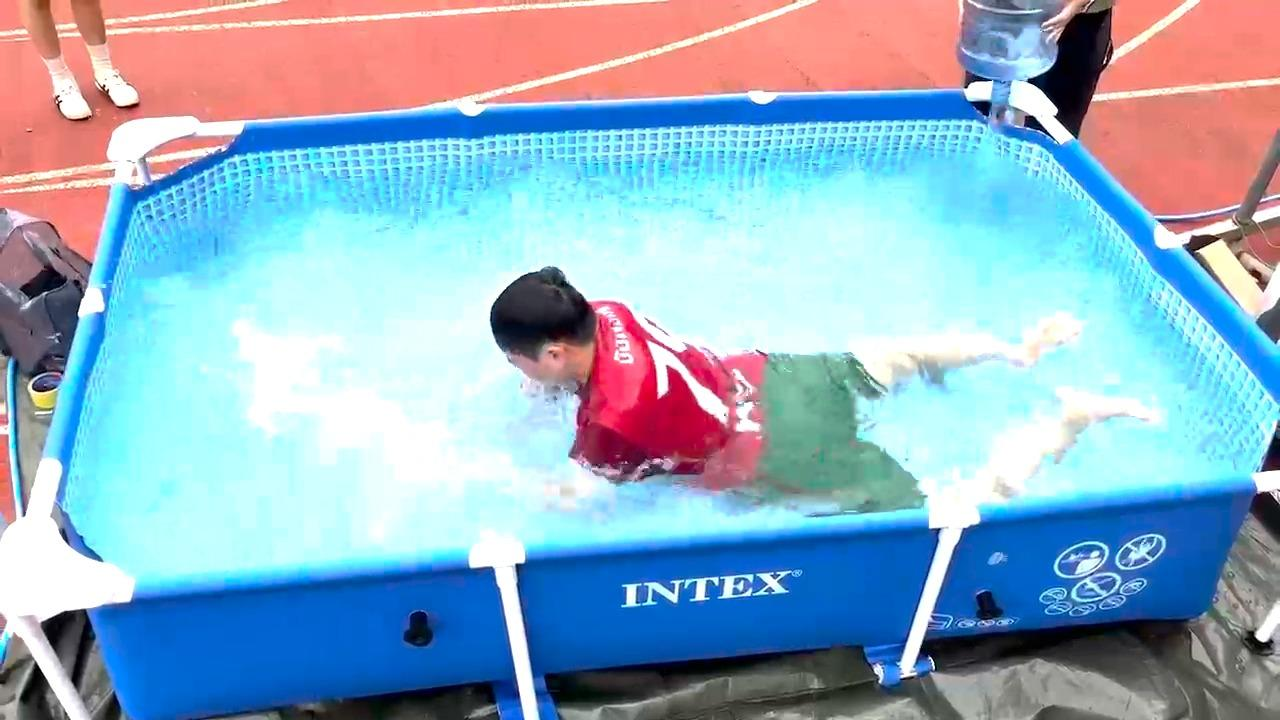Drowning: (347, 239, 1234, 517)
